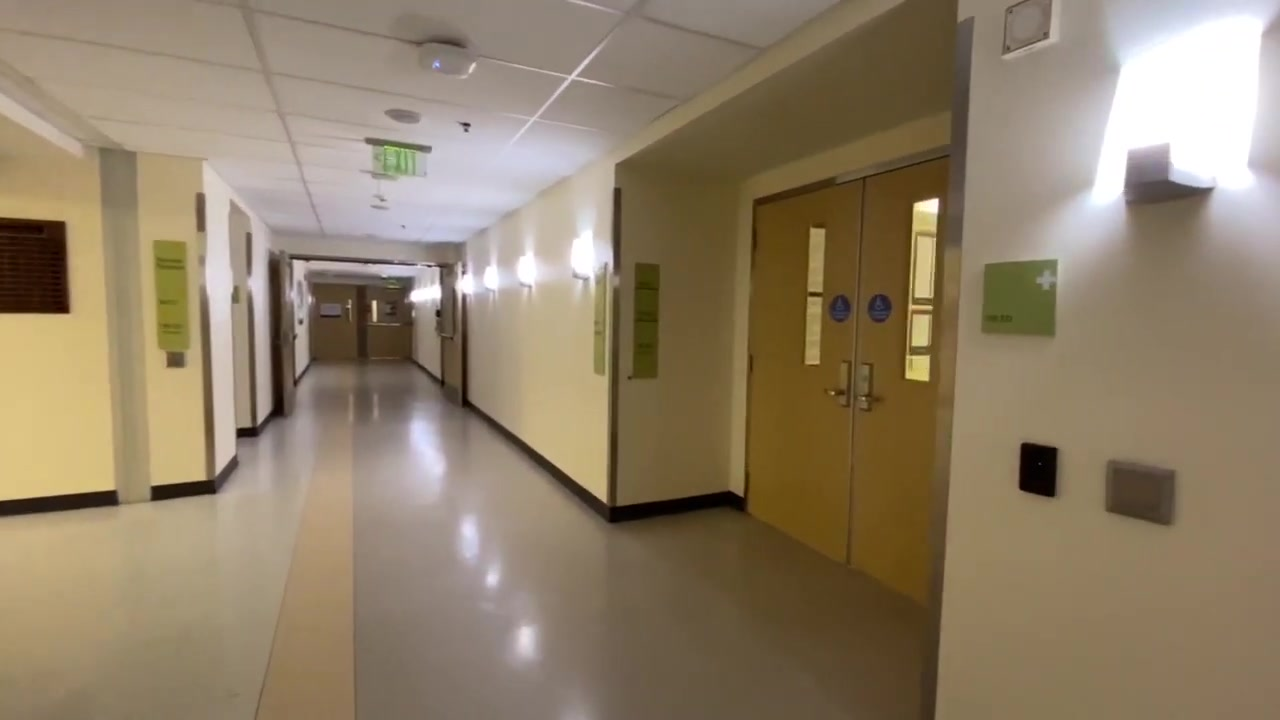door_handle: (855, 358, 881, 406), (822, 360, 851, 399)
press_to_open: (1102, 459, 1180, 525), (165, 349, 188, 370)
push_latch: (368, 322, 404, 328)
